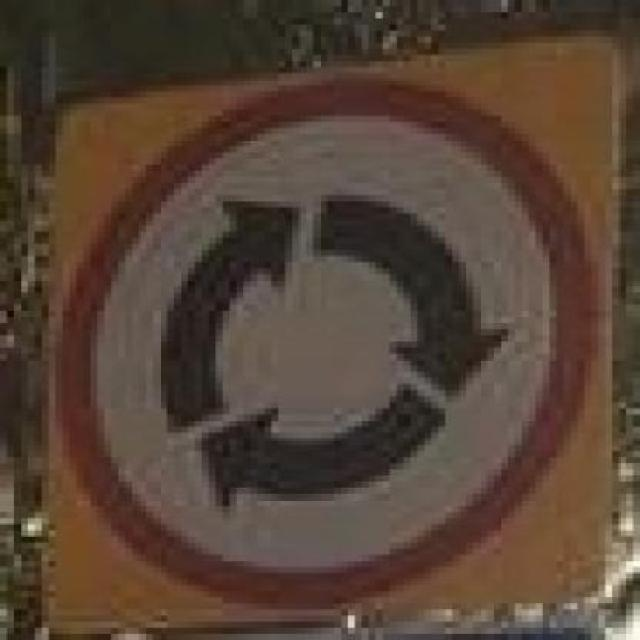roundabout: (48, 72, 599, 613)
